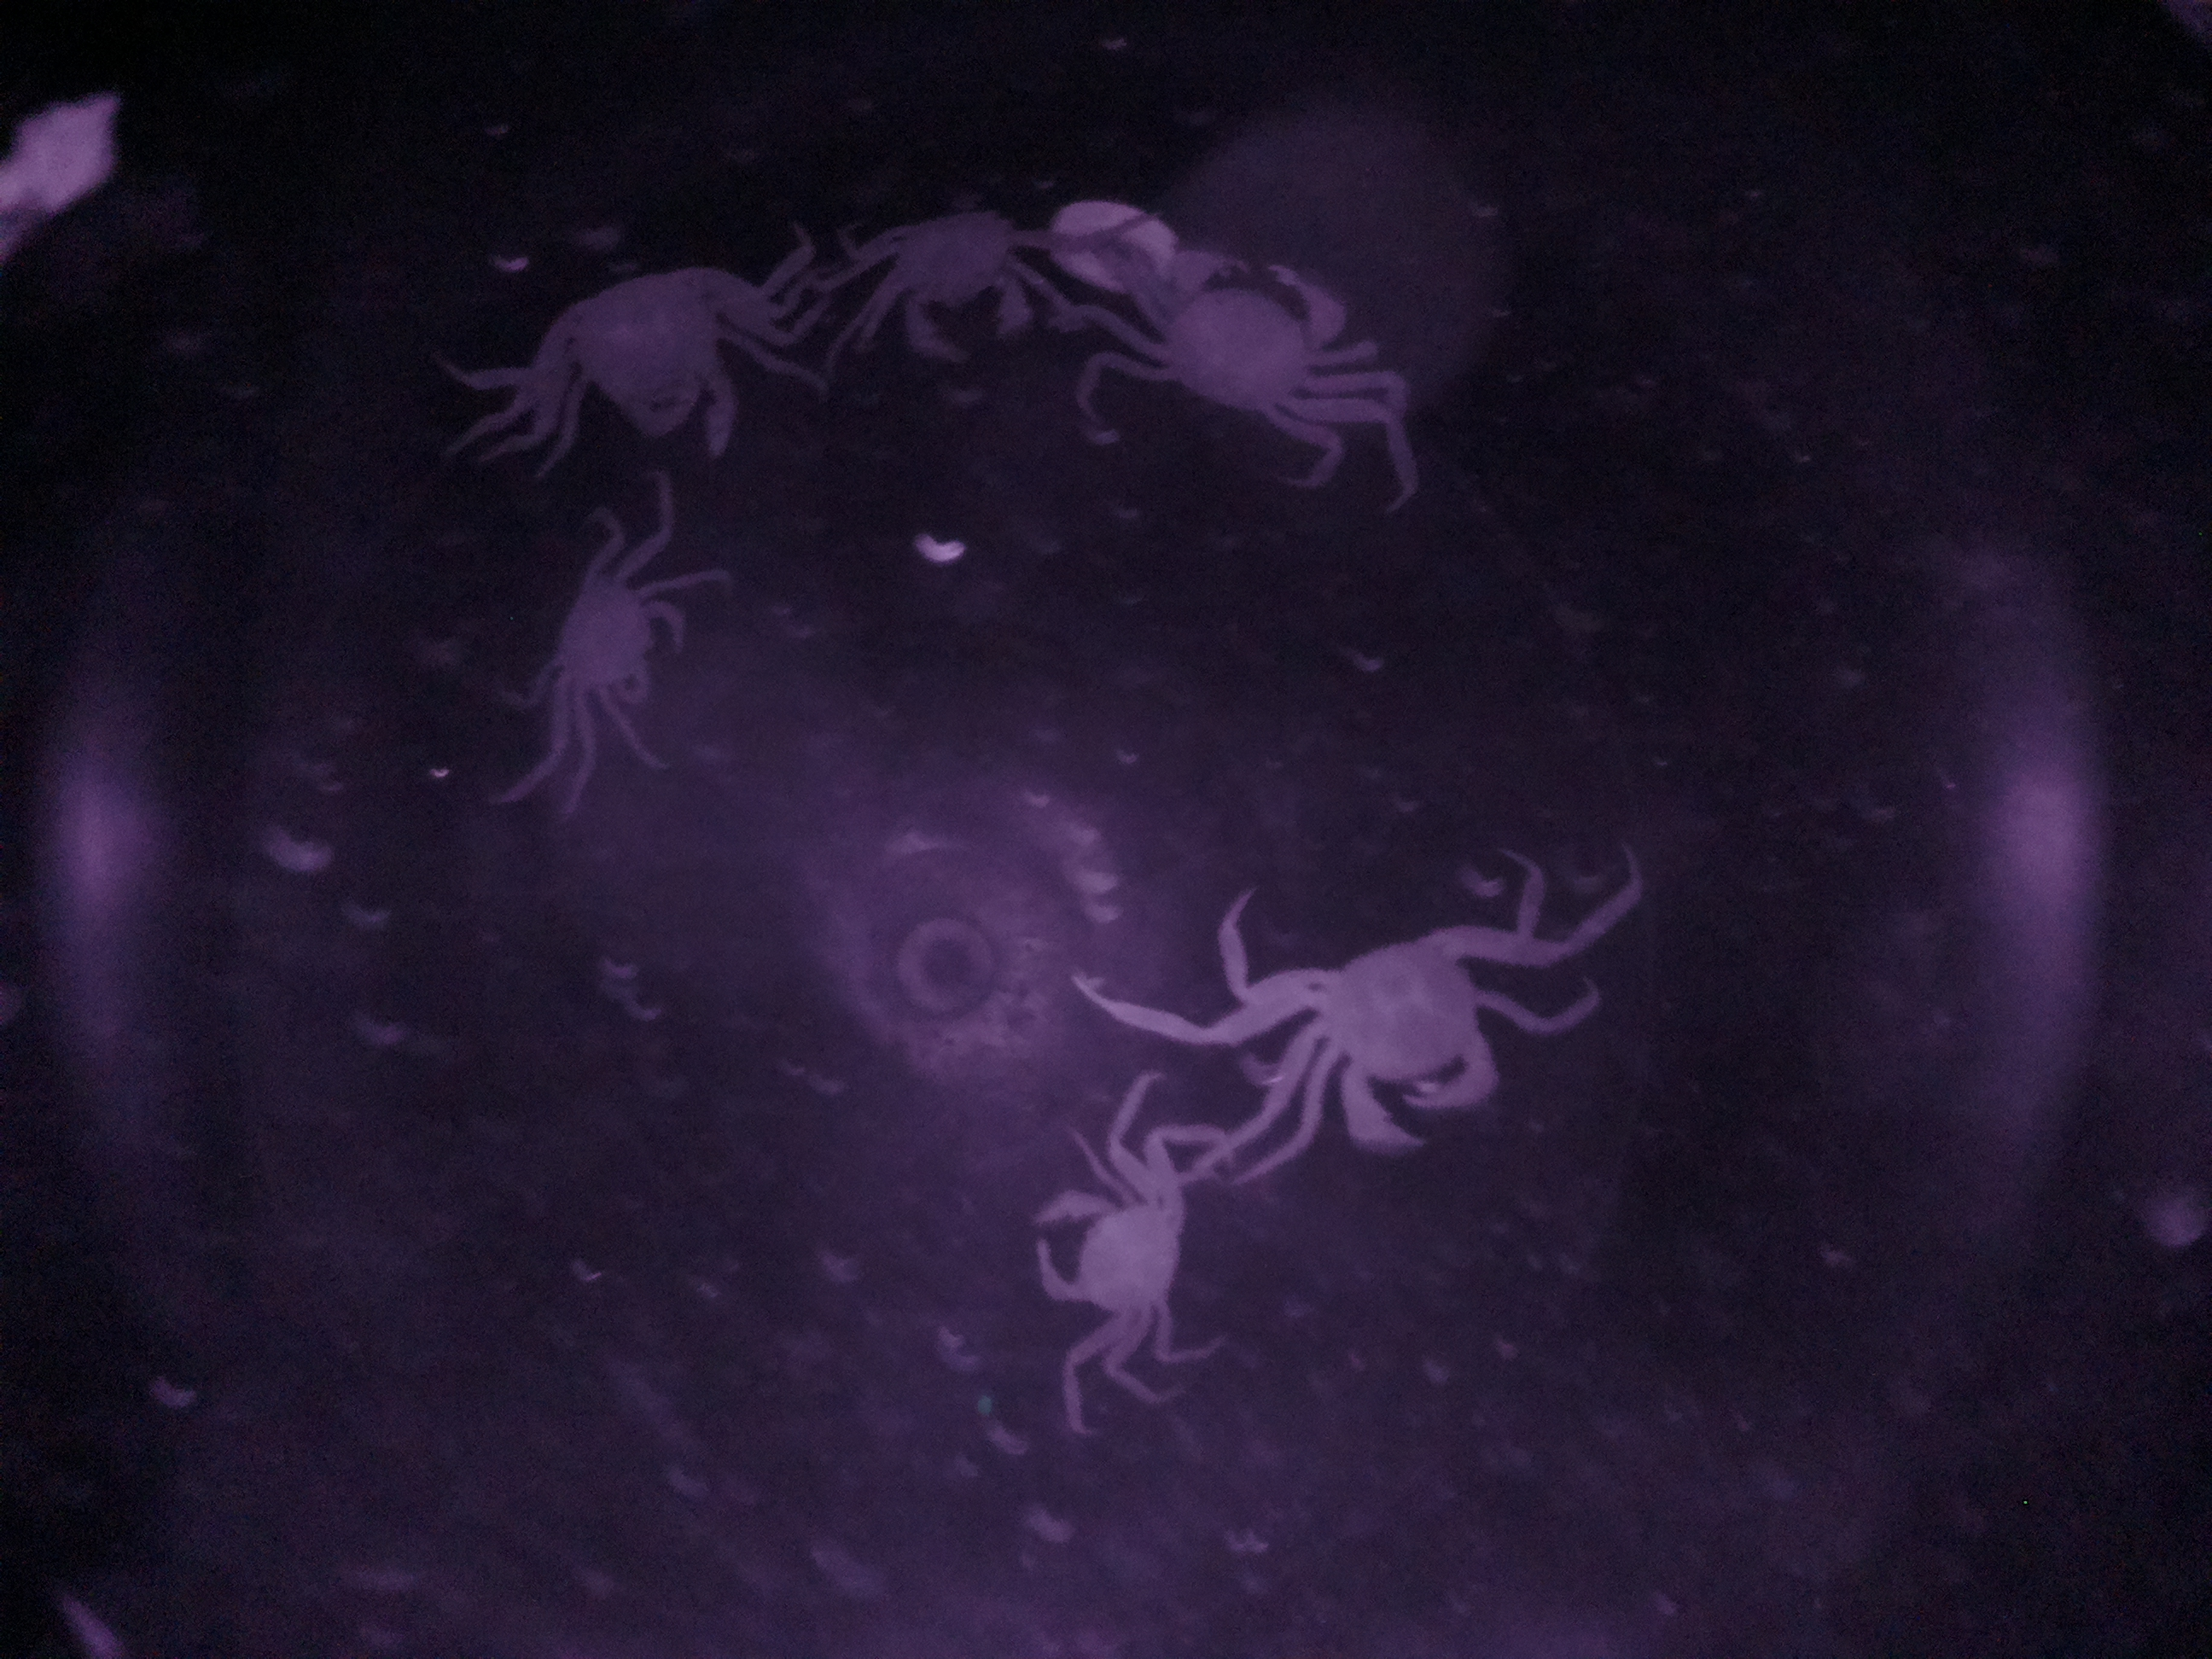Crab: (1251, 896, 1531, 1169), (1097, 230, 1379, 448), (1001, 1143, 1214, 1354), (526, 530, 707, 746), (853, 190, 1054, 371)
